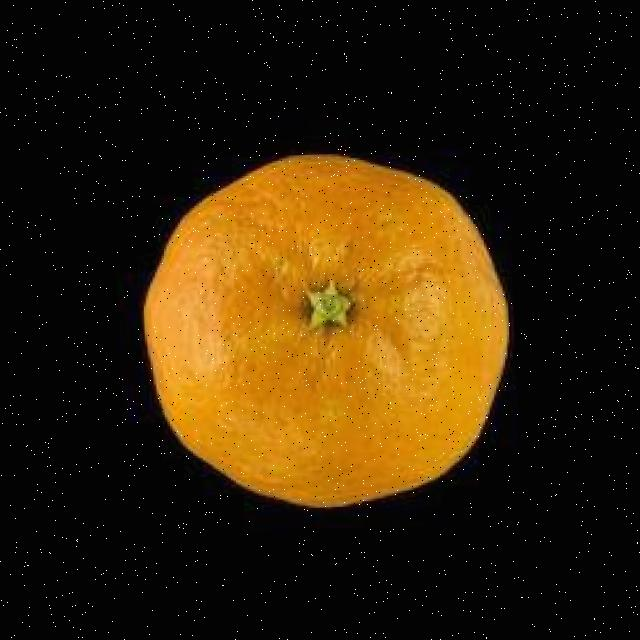orange: (133, 144, 516, 514)
